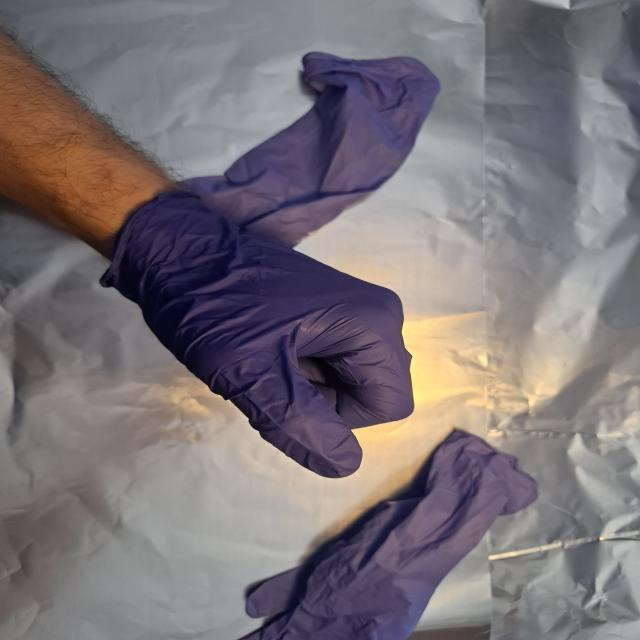glove_on: (100, 188, 421, 480)
